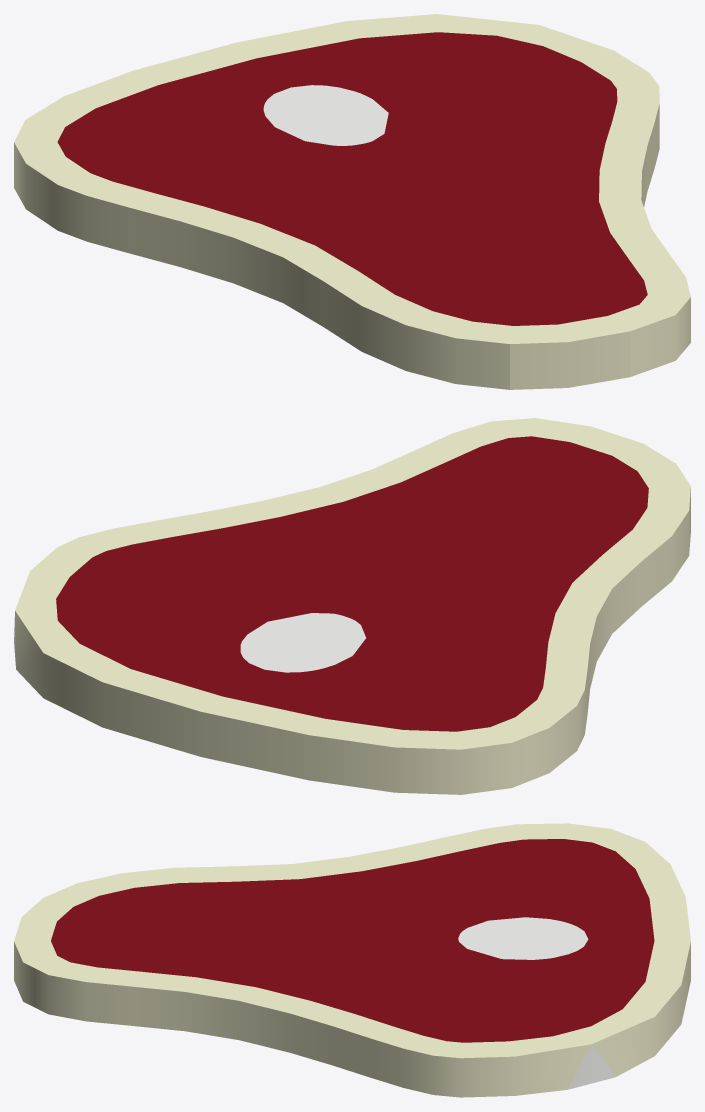
The model's file is Toon Steak.fbx.
3 renders of one model, top to bottom at view 1: azimuth 30°, elevation 25°; view 2: azimuth 150°, elevation 25°; view 3: azimuth 270°, elevation 25°, orthographic. The views are drawn at different scales.
Visible parts, largest first — view 1: bistecca.001; view 2: bistecca.001; view 3: bistecca.001.
Part boxes in pixels (bbox=[...]): bistecca.001: bbox=[14, 14, 690, 389]; bistecca.001: bbox=[14, 418, 690, 794]; bistecca.001: bbox=[14, 823, 690, 1097].
Size of the model in its own units: 29.21 by 2.28 by 35.59.
Materials: 1 (1 with a texture image).
